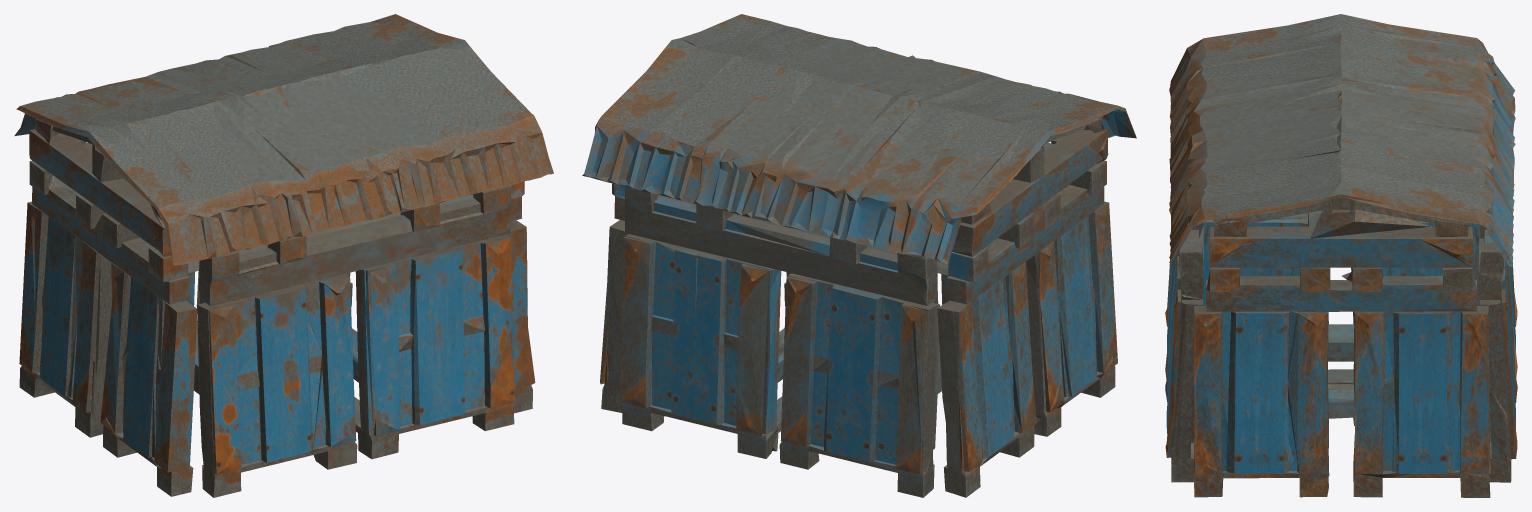
The picture shows the model from 3 angles, left to right: view 1: azimuth 30°, elevation 25°; view 2: azimuth 150°, elevation 25°; view 3: azimuth 270°, elevation 25°; orthographic projection.
Bounding box in the file's own units: 1.9 × 1.49 × 1.55.
1 material, 1 textured.
